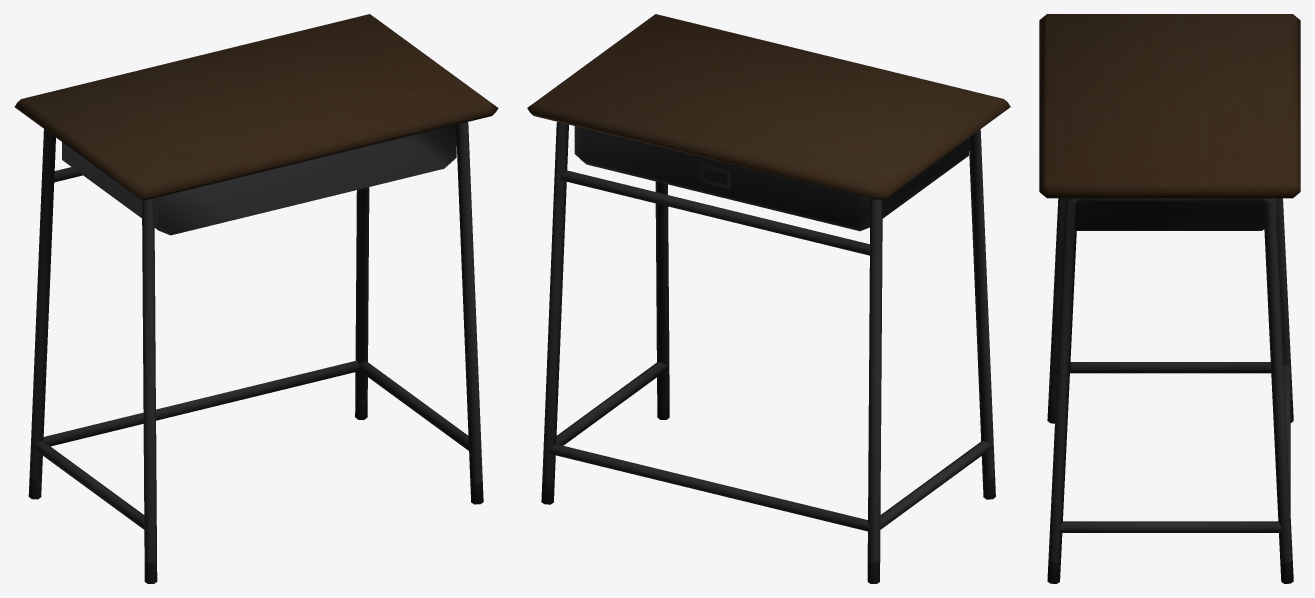
Rendered from desk_type00_nig.FBX.
3 renders of one model, left to right at view 1: azimuth 30°, elevation 25°; view 2: azimuth 150°, elevation 25°; view 3: azimuth 270°, elevation 25°, orthographic.
Parts seen in each view (by area): view 1: crm_deskA000_nig; view 2: crm_deskA000_nig; view 3: crm_deskA000_nig.
Part boxes in pixels (left/top/right/bottom): crm_deskA000_nig: left=14, top=14, right=498, bottom=583; crm_deskA000_nig: left=527, top=14, right=1010, bottom=583; crm_deskA000_nig: left=1039, top=14, right=1300, bottom=583.
Size of the model in its own units: 79.26 by 83.44 by 49.19.
